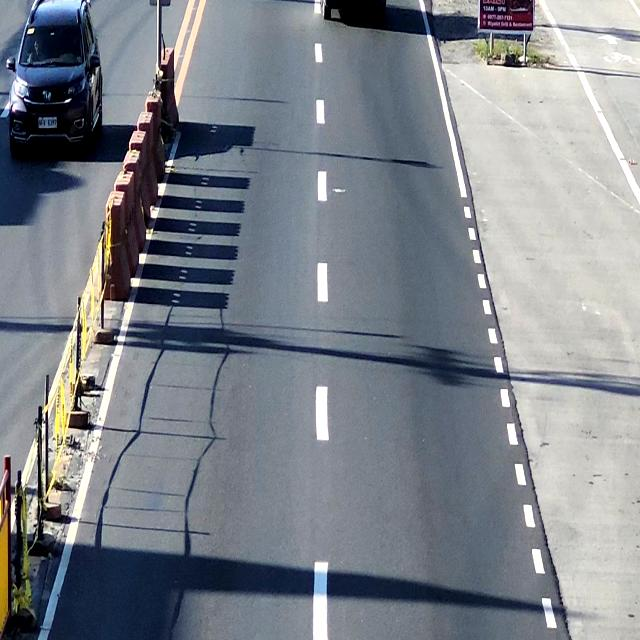License-Plate: (39, 116, 58, 128)
